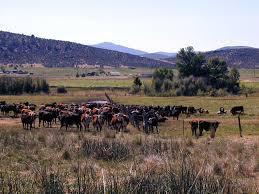cow: (190, 121, 221, 139), (57, 115, 84, 133), (20, 112, 37, 132), (37, 111, 55, 128), (91, 116, 105, 132), (110, 117, 122, 132), (230, 105, 244, 114)
